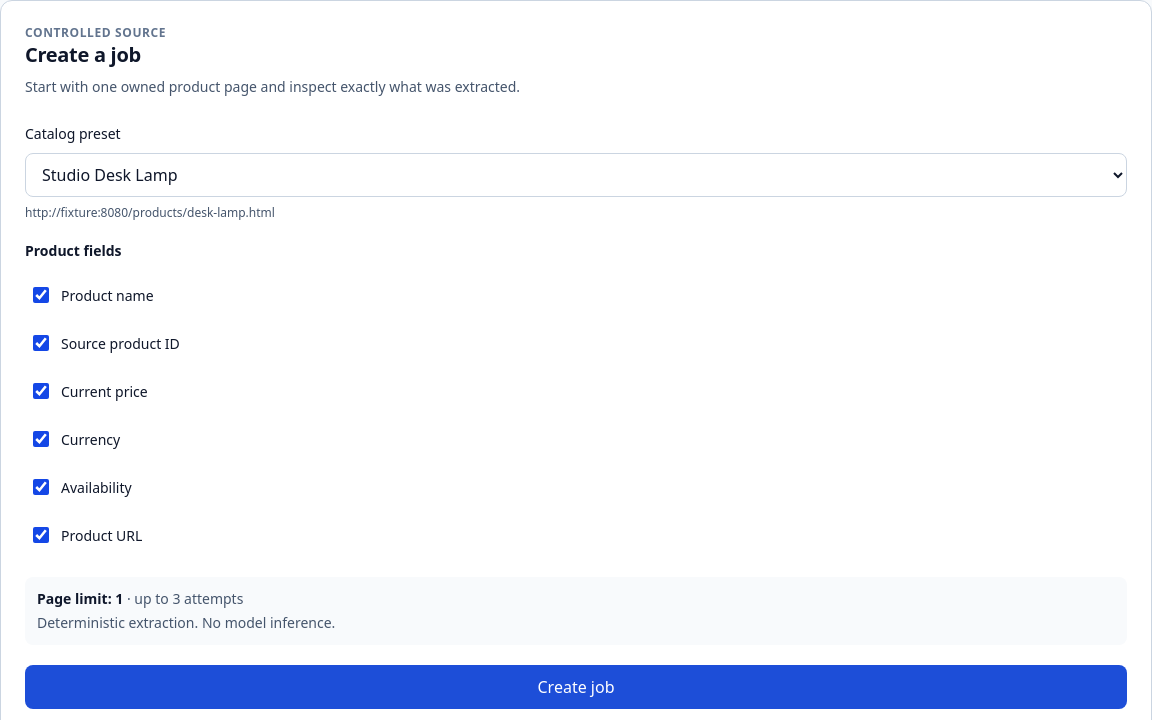
Test: controlled job submission › prevents another submission while the first response is pending
This screenshot has width=1152, height=720.
Click the button "Create job": (576, 687) [25,665,1127,709]
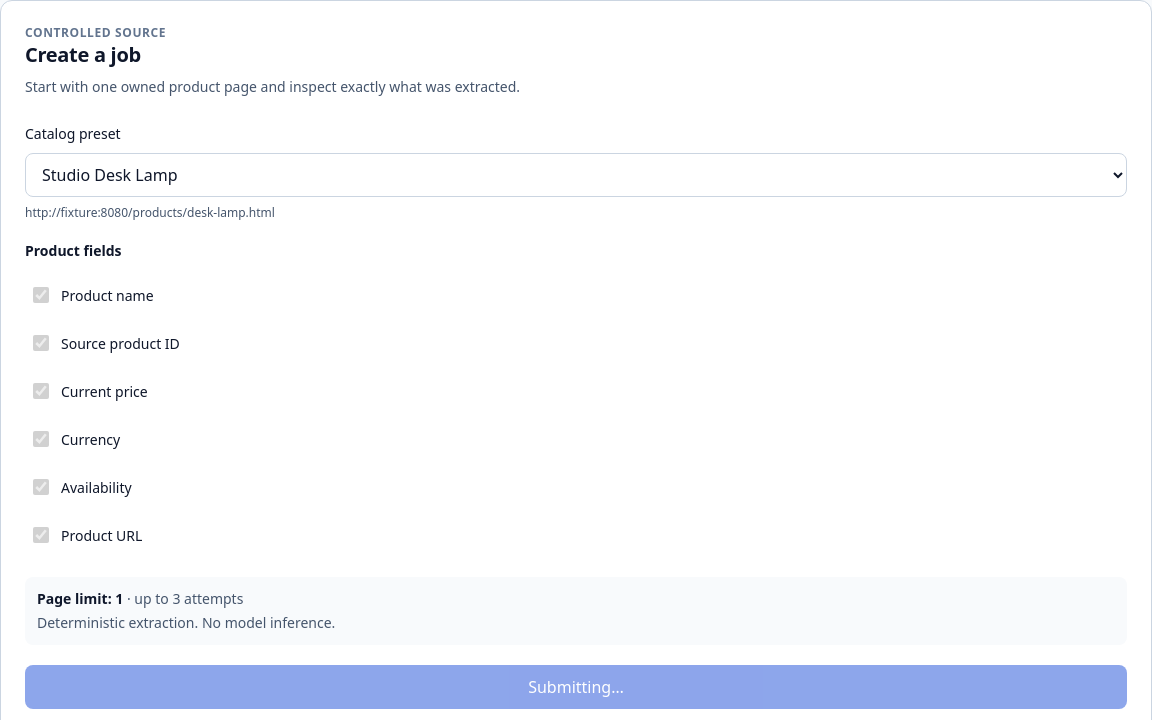
Expected: the dropdown labelled "Catalog preset" is disabled, [25,153,1127,197]
Result: the button "Submitting…" is disabled
Click the button "Submitting…": (576, 687) [25,665,1127,709]
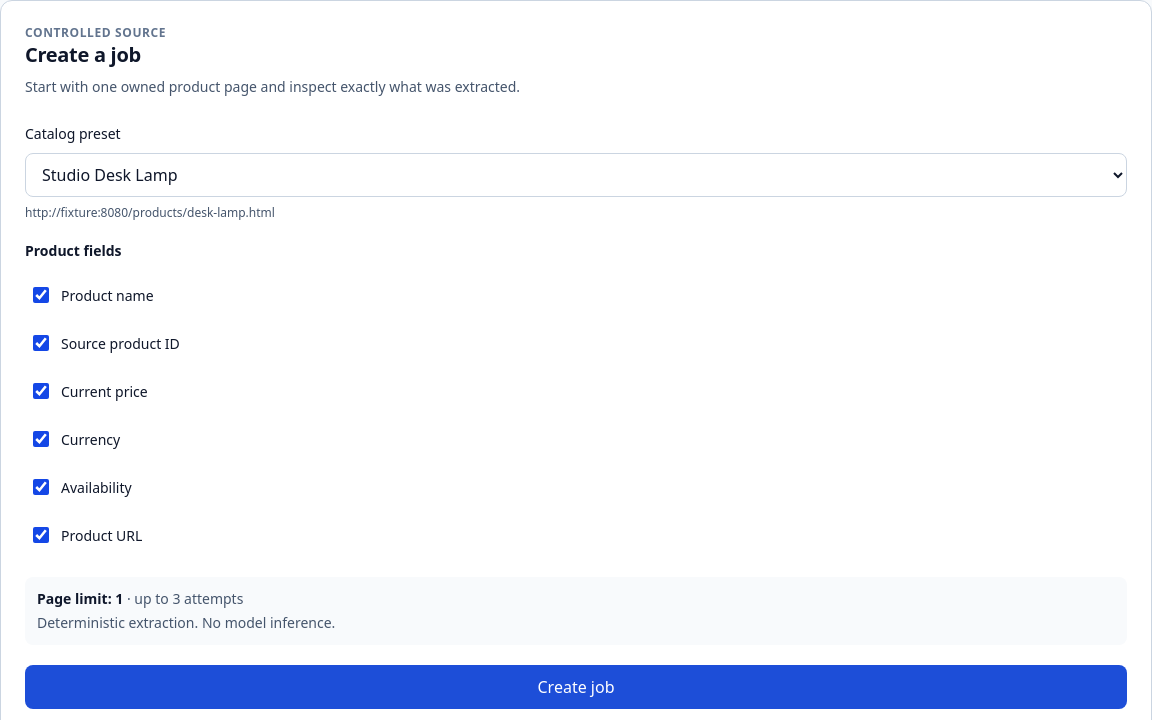
Result: the button "Create job" is enabled at [25,665,1127,709]
